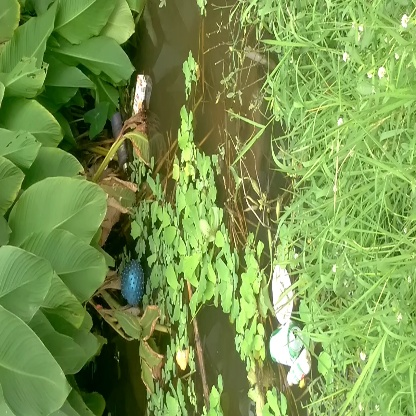ball: (114, 254, 150, 310)
bottle: (264, 316, 309, 370)
milk-box: (127, 70, 157, 117)
